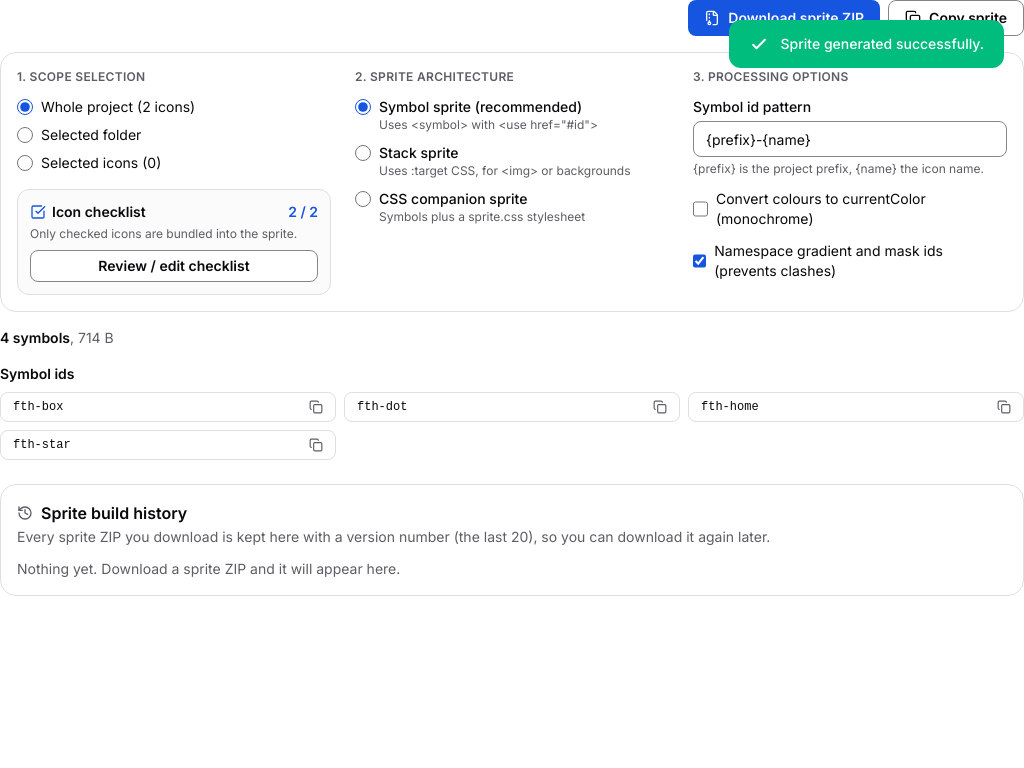
Test case: chosen icons › opens the checklist from Choose icons and builds with the new choice
Expected: the text "4 symbols" is shown, left=0, top=329, right=70, bottom=346
What coordinates should you click on to do the following:
click the button "Review / edit checklist"
I would click on:
 (174, 266)
Its box is left=30, top=250, right=318, bottom=282.
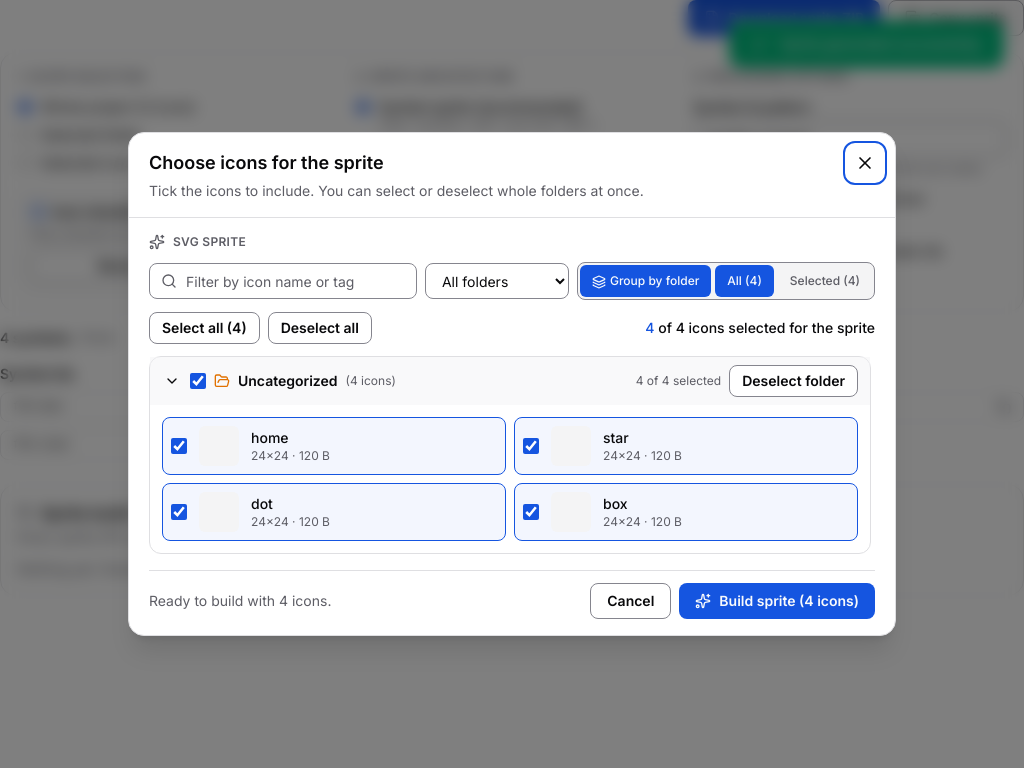
Result: the text "4 of 4 icons selected for the sprite" is shown at left=645, top=318, right=875, bottom=338
What coordinates should you click on to do the following:
click the button "Deselect all"
I would click on:
 (320, 328)
Its box is left=268, top=312, right=372, bottom=344.
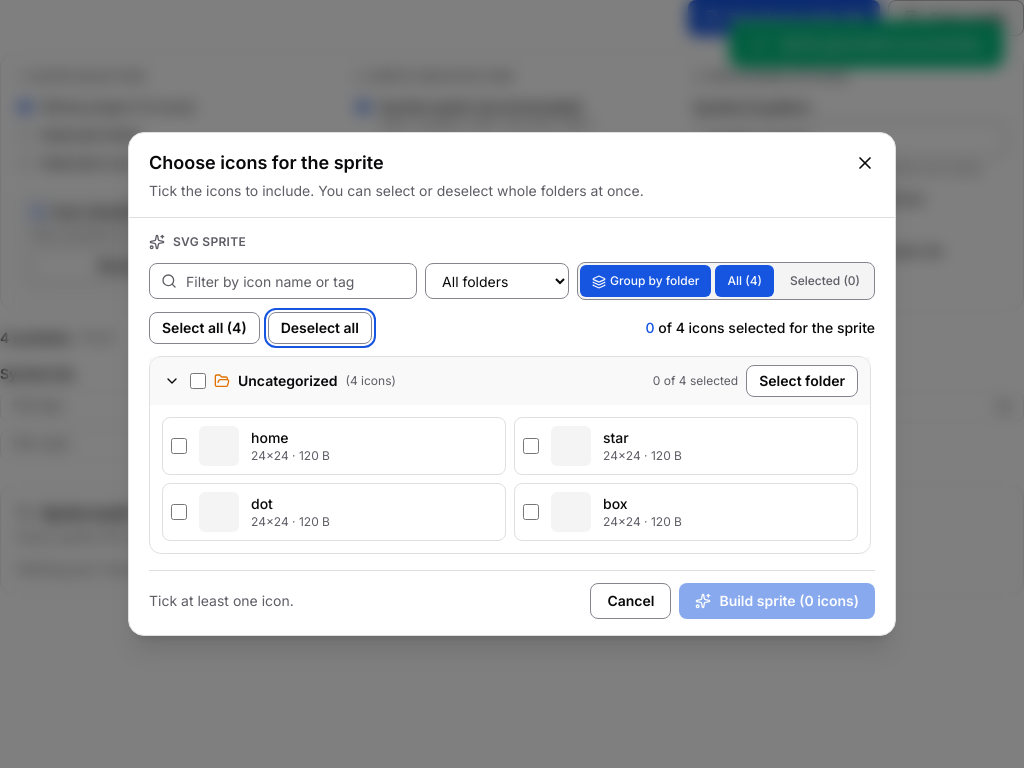
What coordinates should you click on to do the following:
click the checkbox labelled "home 24×24 · 120 B"
I would click on:
 (179, 446)
Its box is left=171, top=438, right=187, bottom=454.
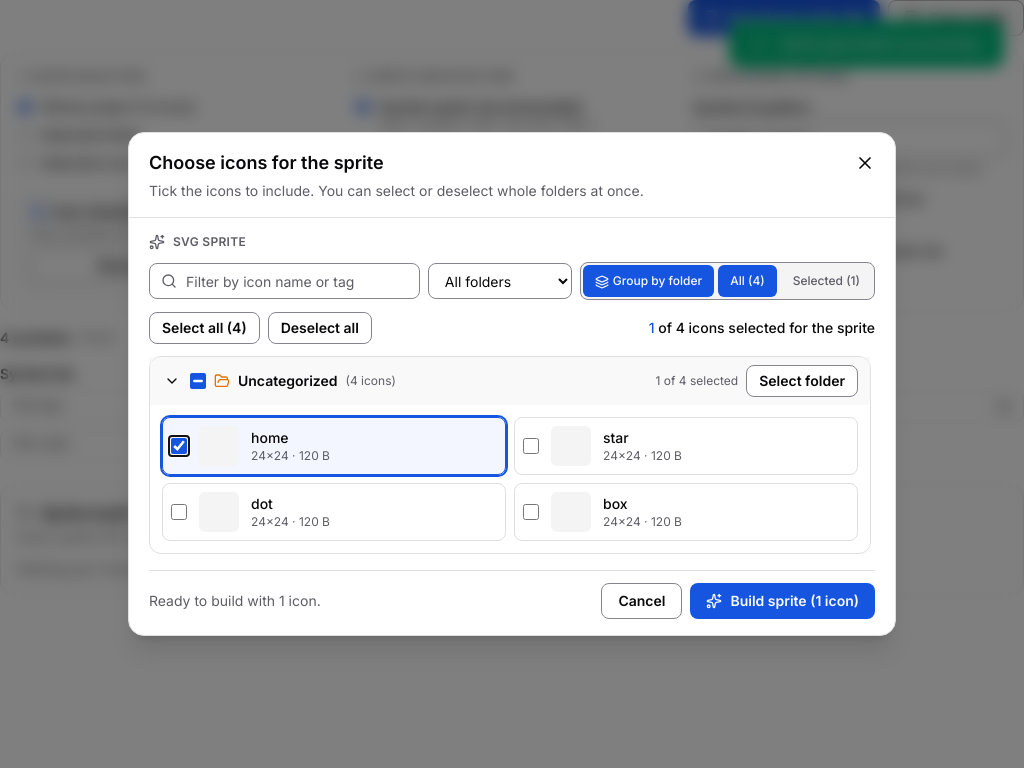
What coordinates should you click on to do the following:
click the button "Build sprite (1 icon)"
I would click on:
 (783, 601)
Its box is left=690, top=583, right=875, bottom=619.
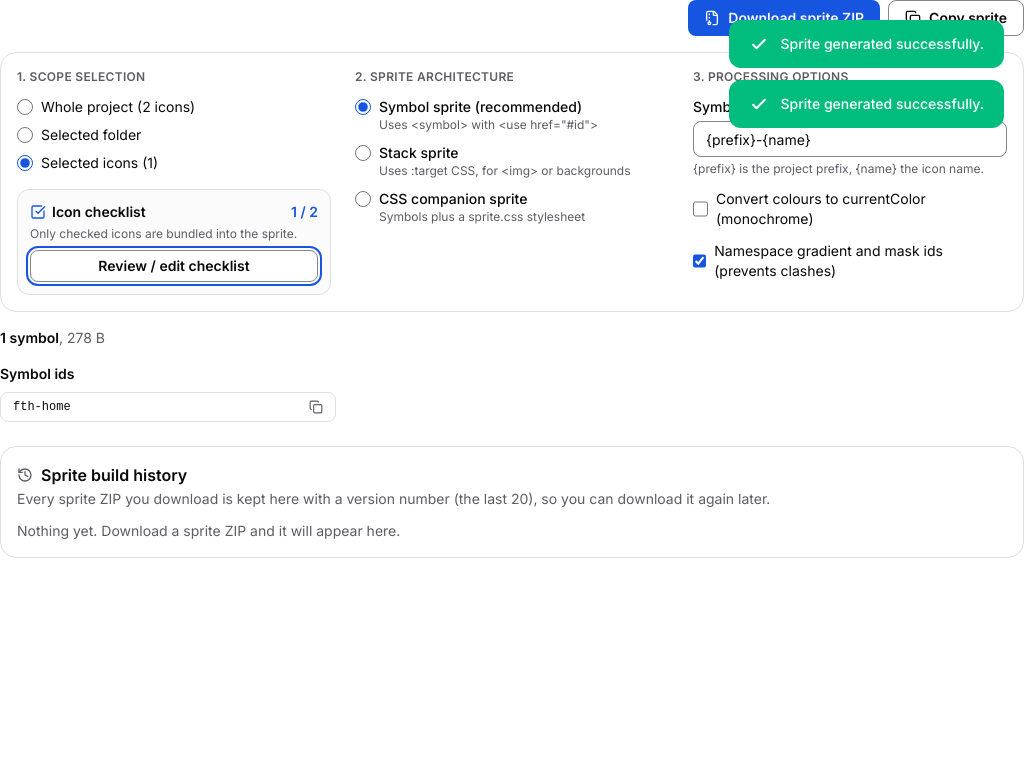
Result: the text "1 symbol" is shown at left=0, top=329, right=59, bottom=346
Result: the radio button labelled "Selected icons (1)" is checked at left=17, top=155, right=33, bottom=171
